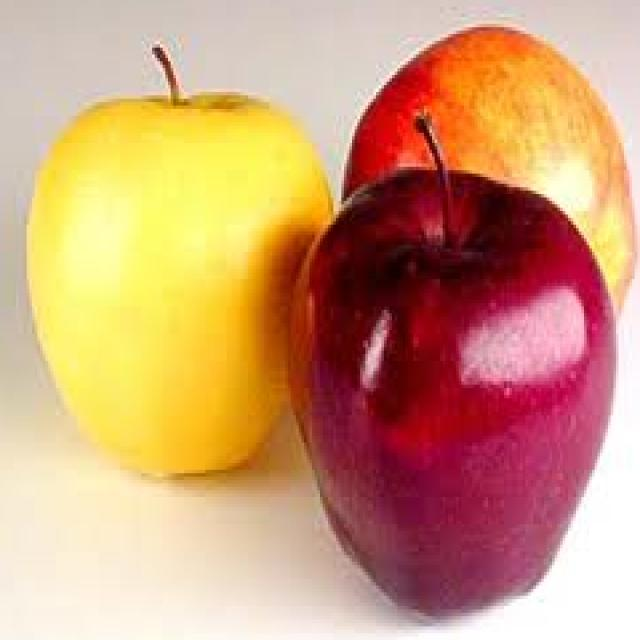apples: (8, 7, 640, 623)
